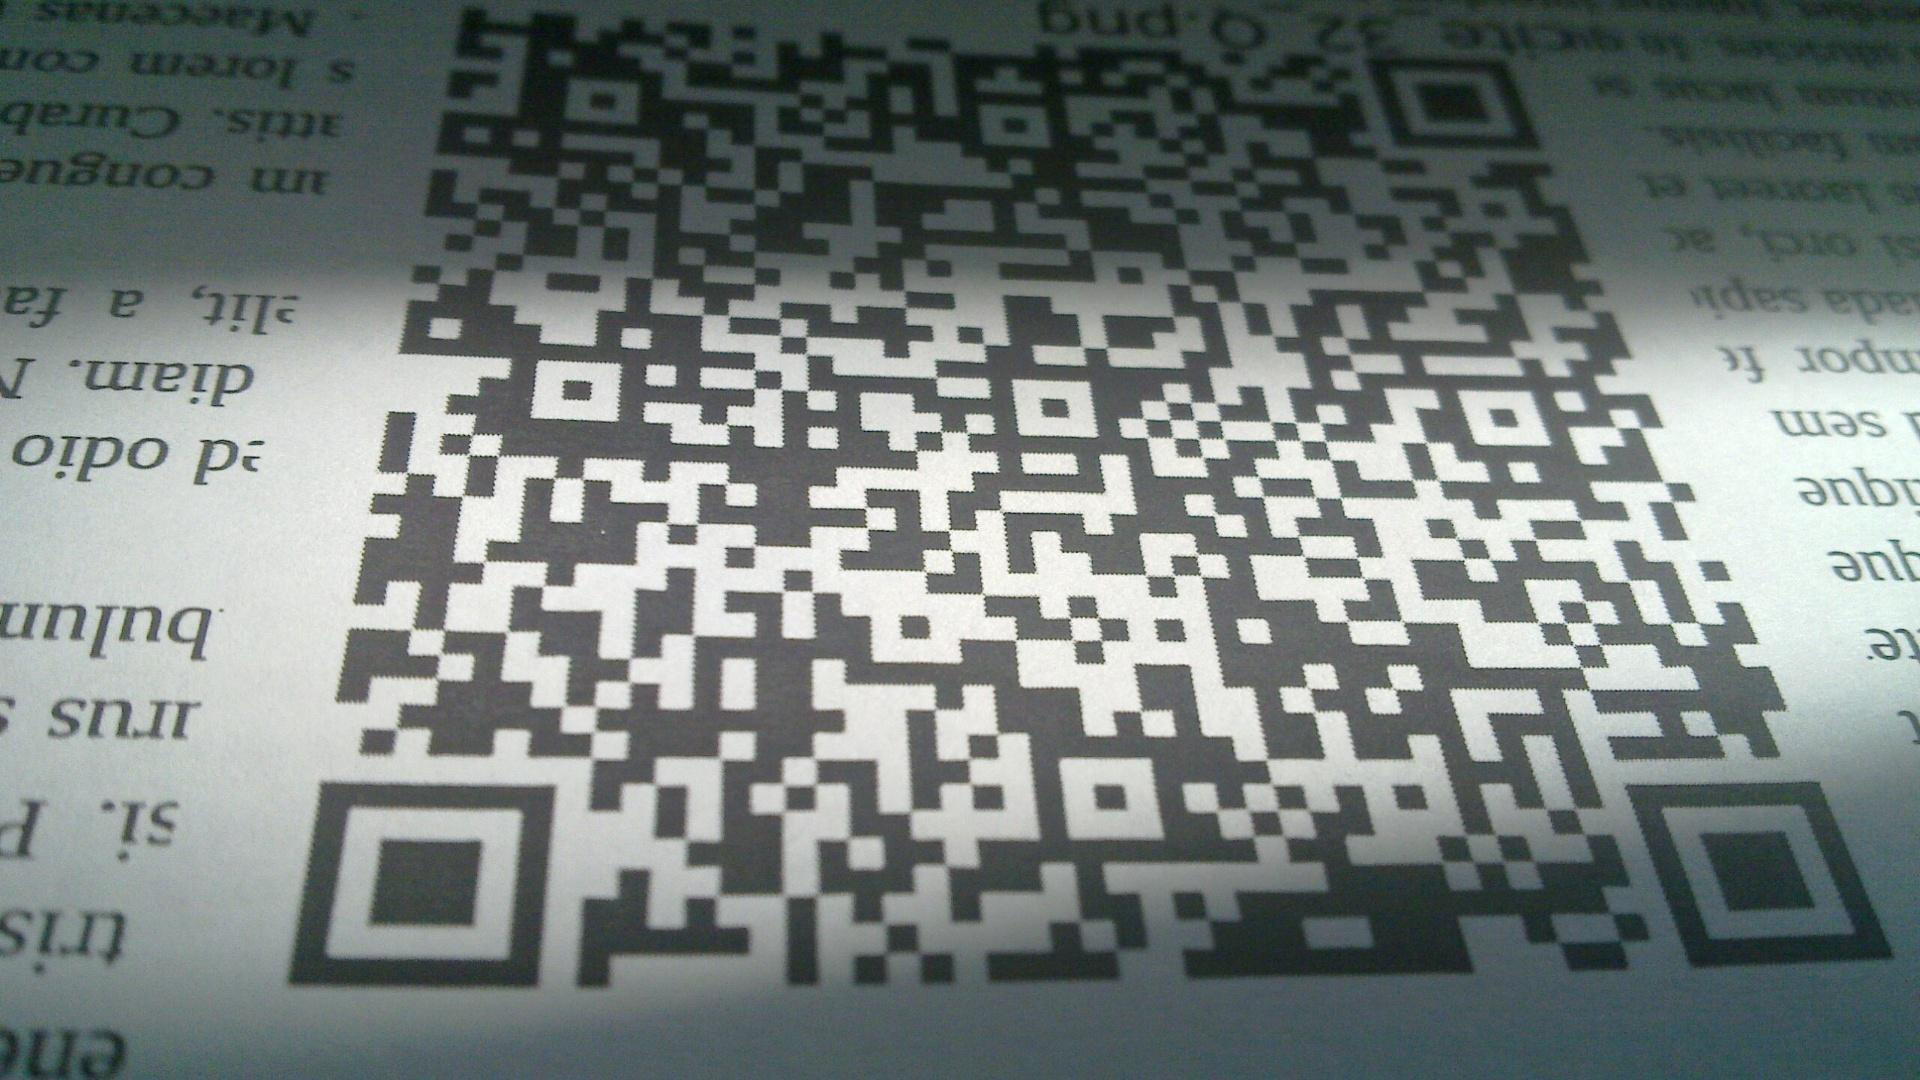qr_code: (287, 0, 1896, 989)
